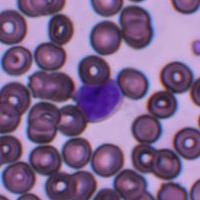L: (73, 79, 124, 122)
